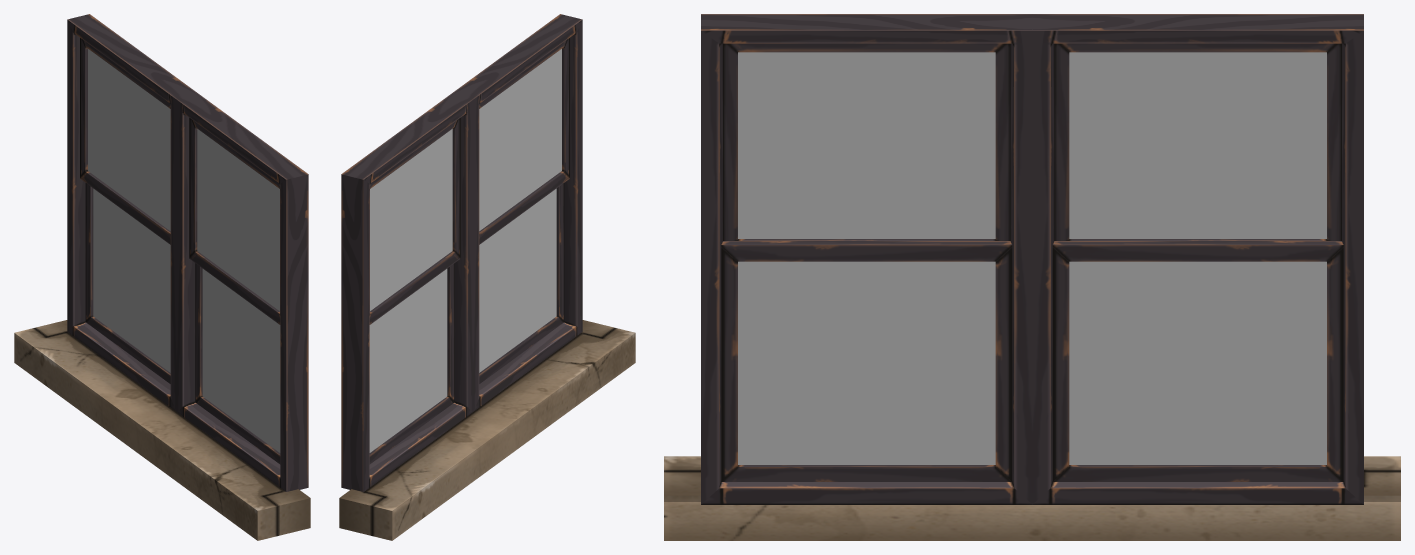
File: window10.FBX
The picture shows the model from 3 angles, left to right: view 1: azimuth 30°, elevation 25°; view 2: azimuth 150°, elevation 25°; view 3: azimuth 270°, elevation 25°; orthographic projection. The views are drawn at different scales.
Visible parts, largest first — view 1: window10_frame, window10_glass01, window10_glass02, window10_glass04, window10_glass03, window10_slide01, window10_slide02; view 2: window10_frame, window10_glass02, window10_glass01, window10_glass03, window10_glass04, window10_slide02, window10_slide01; view 3: window10_frame, window10_glass04, window10_glass03, window10_glass01, window10_glass02, window10_slide02, window10_slide01.
Part boxes in pixels (<box>): window10_frame: <box>14,14,310,540</box>; window10_glass01: <box>88,49,170,230</box>; window10_glass02: <box>197,129,279,310</box>; window10_glass04: <box>202,269,280,452</box>; window10_glass03: <box>93,188,170,372</box>; window10_slide01: <box>85,183,170,383</box>; window10_slide02: <box>195,263,280,464</box>; window10_frame: <box>339,14,635,540</box>; window10_glass02: <box>479,49,561,230</box>; window10_glass01: <box>370,129,452,310</box>; window10_glass03: <box>369,269,447,452</box>; window10_glass04: <box>479,188,556,372</box>; window10_slide02: <box>479,183,564,383</box>; window10_slide01: <box>369,263,454,464</box>; window10_frame: <box>664,14,1400,540</box>; window10_glass04: <box>738,261,995,464</box>; window10_glass03: <box>1069,261,1326,464</box>; window10_glass01: <box>1069,52,1326,238</box>; window10_glass02: <box>738,52,995,238</box>; window10_slide02: <box>721,241,1012,481</box>; window10_slide01: <box>1052,241,1343,481</box>.
Bounding box in the file's own units: 30 × 155 × 200.
